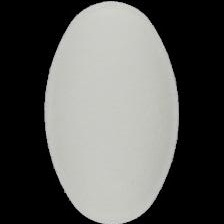55154-5494: (0, 0, 224, 224)
